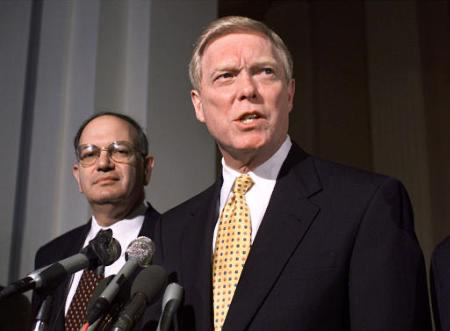Face: (201, 36, 292, 157), (70, 120, 145, 210)
